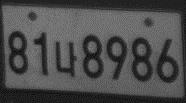1: (32, 31, 49, 77)
6: (154, 37, 179, 84)
8: (129, 36, 153, 81), (81, 33, 104, 79), (7, 29, 29, 76)
9: (105, 34, 128, 81)
나: (53, 39, 78, 76)
